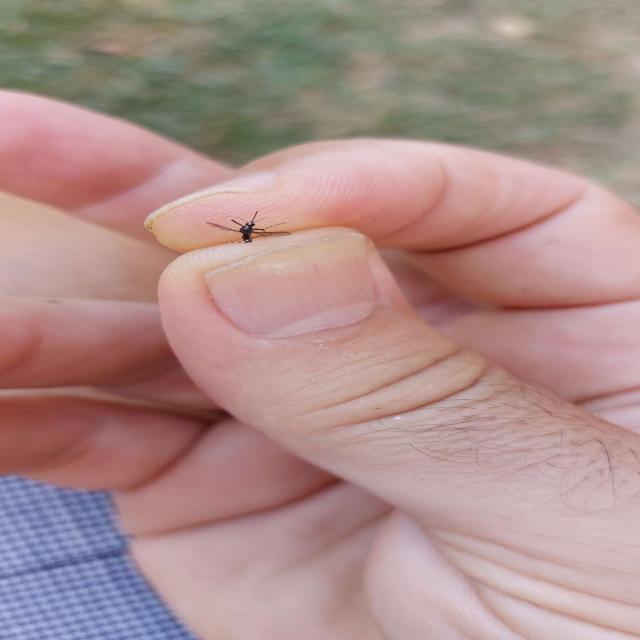albopictus: (199, 206, 288, 247)
